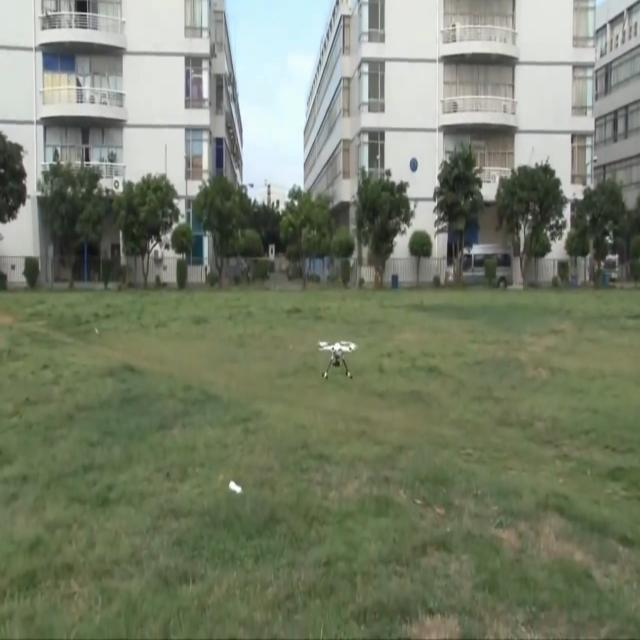drone: (317, 338, 358, 380)
